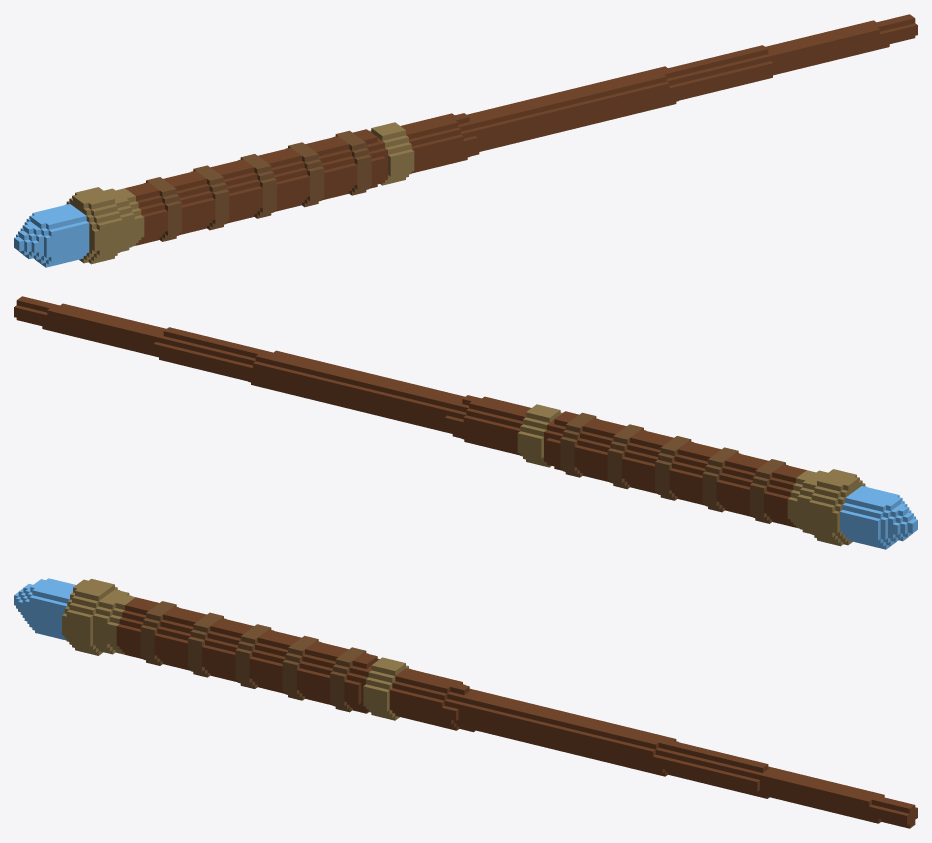
The model's file is crystal_socket_wand.glb.
The picture shows the model from 3 angles, top to bottom: view 1: azimuth 30°, elevation 25°; view 2: azimuth 150°, elevation 25°; view 3: azimuth 330°, elevation 25°; orthographic projection.
Visible parts, largest first — view 1: crystal_socket_wand:compound; view 2: crystal_socket_wand:compound; view 3: crystal_socket_wand:compound.
Part boxes in pixels (box(x1,y1,x2,y2)): crystal_socket_wand:compound: box(14, 14, 917, 267); crystal_socket_wand:compound: box(14, 296, 917, 549); crystal_socket_wand:compound: box(14, 578, 917, 828).
Bounding box in the file's own units: 0.378 × 0.024 × 0.024.
